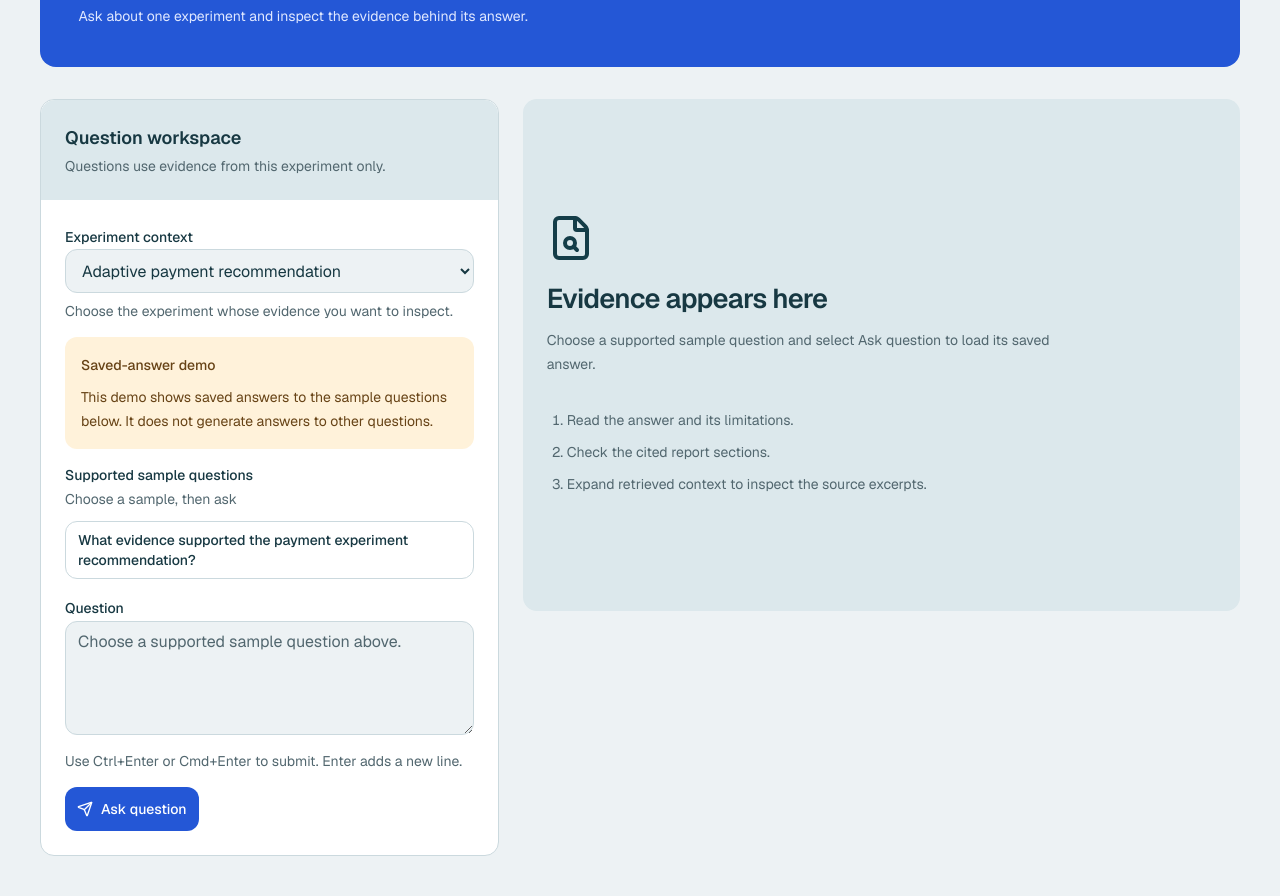
Test: AskExperimentWorkspace › renders a labelled question form and prevents blank submissions
This screenshot has width=1280, height=896.
(page scrolled)
Click the button "Ask question": (132, 809) [65,787,199,831]
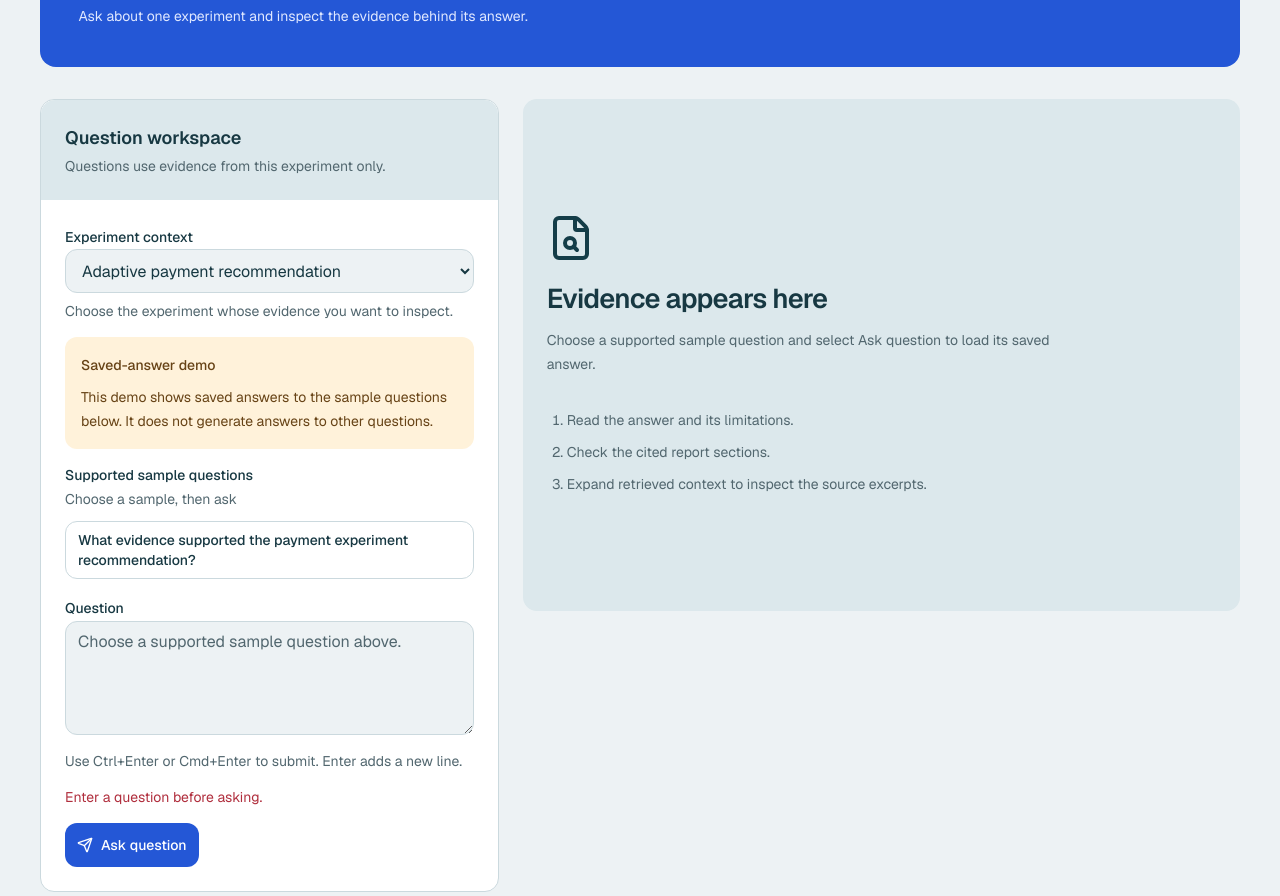
Expected: the text "Enter a question before asking." is shown, [65,788,262,806]
